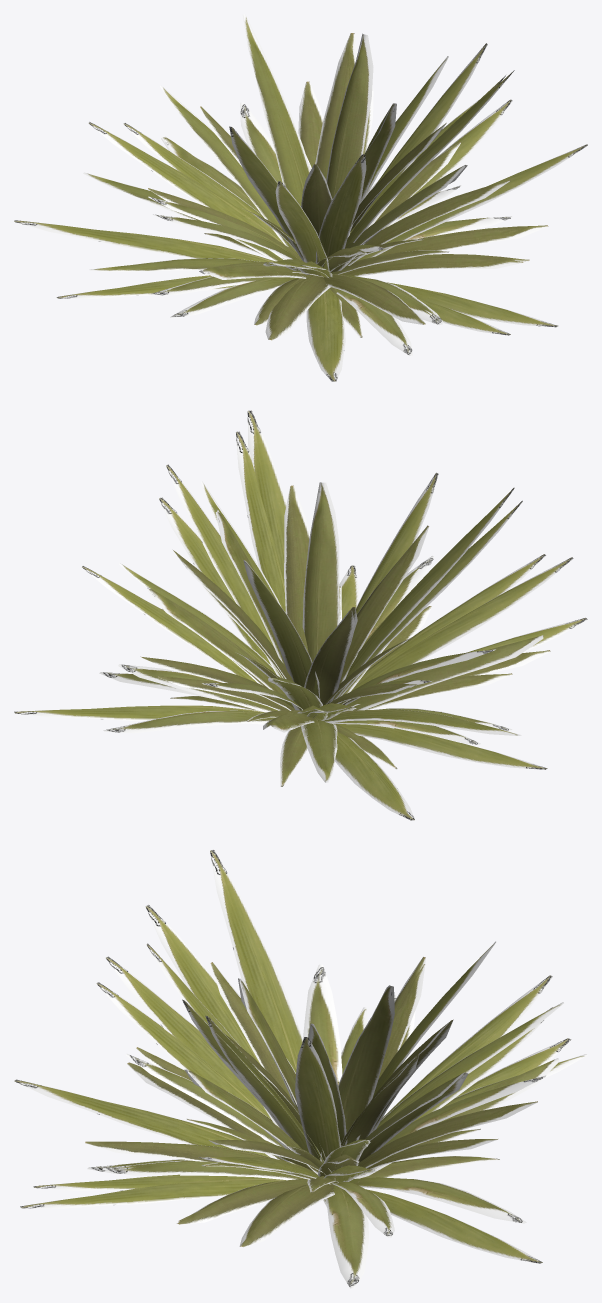
3 views of the same model, one above another, from view 1: azimuth 30°, elevation 25°; view 2: azimuth 150°, elevation 25°; view 3: azimuth 270°, elevation 25° (orthographic). The views are drawn at different scales.
Parts seen in each view (by area): view 1: Object_2; view 2: Object_2; view 3: Object_2.
Boxes of the visible parts, x1=… form: Object_2: x1=14, y1=14, x2=587, y2=381; Object_2: x1=14, y1=410, x2=587, y2=820; Object_2: x1=14, y1=849, x2=587, y2=1288.
Bounding box in the file's own units: 14.65 × 6.96 × 14.12.
1 material, 1 textured.
